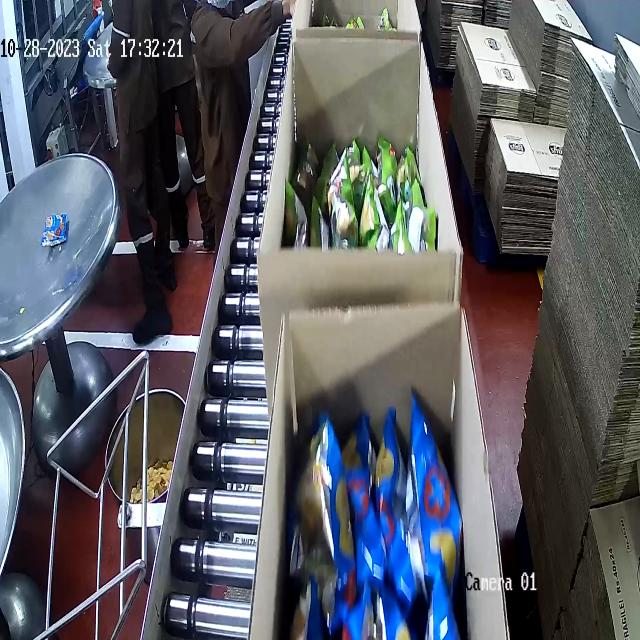PAPRIKA: (290, 386, 472, 640)
